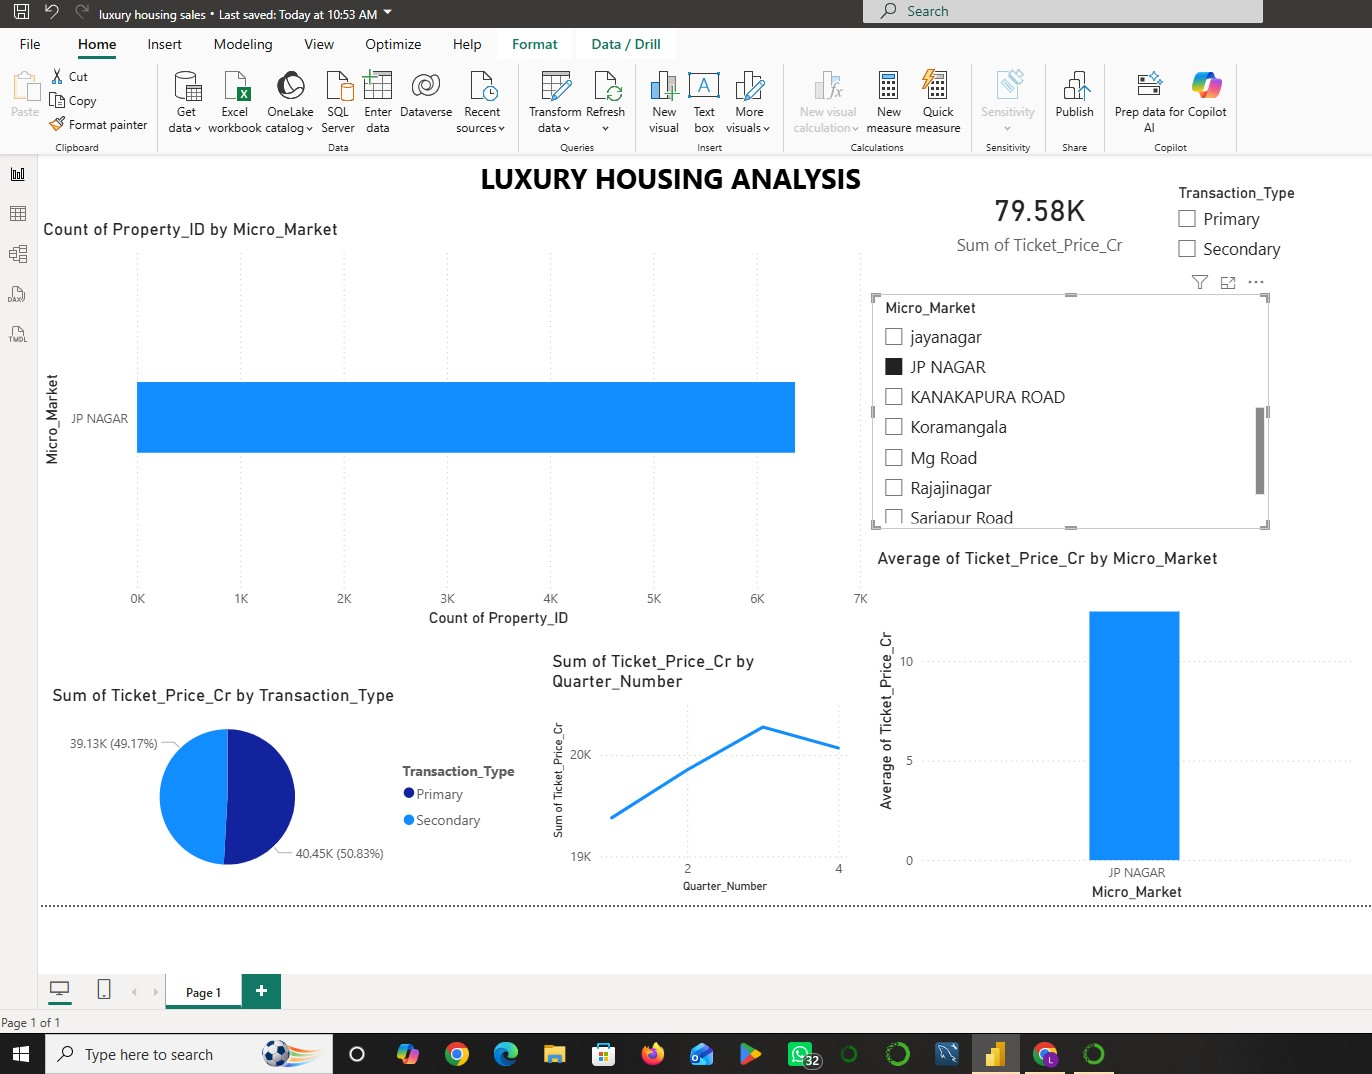

What the dashboard file says about the page in this screenshot:
{"tool":"powerbi","page":{"name":"Page 1","canvas":[1280,720],"ordinal":0},"visuals":[{"type":"clusteredBarChart","fields":{"Y":["CountNonNull(luxury_housing housing_sales_clean.Property_ID)"],"Category":["luxury_housing housing_sales_clean.Micro_Market"]},"box":[0,61.7,800,396.1],"z":0},{"type":"card","fields":{"Values":["Sum(luxury_housing housing_sales_clean.Ticket_Price_Cr)"]},"box":[839.9,24,240.7,77.7],"z":1000},{"type":"pieChart","fields":{"Category":["luxury_housing housing_sales_clean.Transaction_Type"],"Y":["Sum(luxury_housing housing_sales_clean.Ticket_Price_Cr)"]},"box":[8.6,508.2,467.9,197.5],"z":2000},{"type":"lineChart","fields":{"Category":["luxury_housing housing_sales_clean.Quarter_Number"],"Y":["Sum(luxury_housing housing_sales_clean.Ticket_Price_Cr)"]},"box":[488,475.6,294.4,236.8],"z":4000},{"type":"clusteredColumnChart","fields":{"Category":["luxury_housing housing_sales_clean.Micro_Market"],"Y":["Avg(luxury_housing housing_sales_clean.Ticket_Price_Cr)"]},"box":[799.6,376.8,464.1,343.3],"z":4001},{"type":"textbox","box":[413.5,0,386.5,48.2],"z":4002},{"type":"slicer","fields":{"Values":["luxury_housing housing_sales_clean.Micro_Market"]},"box":[799.6,134.2,380.6,225.3],"z":4003},{"type":"slicer","fields":{"Values":["luxury_housing housing_sales_clean.Transaction_Type"]},"box":[1080.6,24,199.4,90.1],"z":4004}]}

Visuals, with their boxes on the page's 1280x720 design canvas (x1, y1, x2, y2). These are canvas units, not pixel positions in the 1372x1074 screenshot, which may show the page scaled, cropped or inside an application window:
clusteredBarChart - CountNonNull(luxury_housing housing_sales_clean.Property_ID) x luxury_housing housing_sales_clean.Micro_Market: region(0, 62, 800, 458)
card - Sum(luxury_housing housing_sales_clean.Ticket_Price_Cr): region(840, 24, 1081, 102)
pieChart - luxury_housing housing_sales_clean.Transaction_Type x Sum(luxury_housing housing_sales_clean.Ticket_Price_Cr): region(9, 508, 476, 706)
lineChart - luxury_housing housing_sales_clean.Quarter_Number x Sum(luxury_housing housing_sales_clean.Ticket_Price_Cr): region(488, 476, 782, 712)
clusteredColumnChart - luxury_housing housing_sales_clean.Micro_Market x Avg(luxury_housing housing_sales_clean.Ticket_Price_Cr): region(800, 377, 1264, 720)
textbox: region(414, 0, 800, 48)
slicer - luxury_housing housing_sales_clean.Micro_Market: region(800, 134, 1180, 360)
slicer - luxury_housing housing_sales_clean.Transaction_Type: region(1081, 24, 1280, 114)
